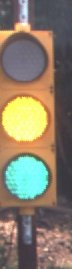Yellow: (1, 22, 57, 222)
